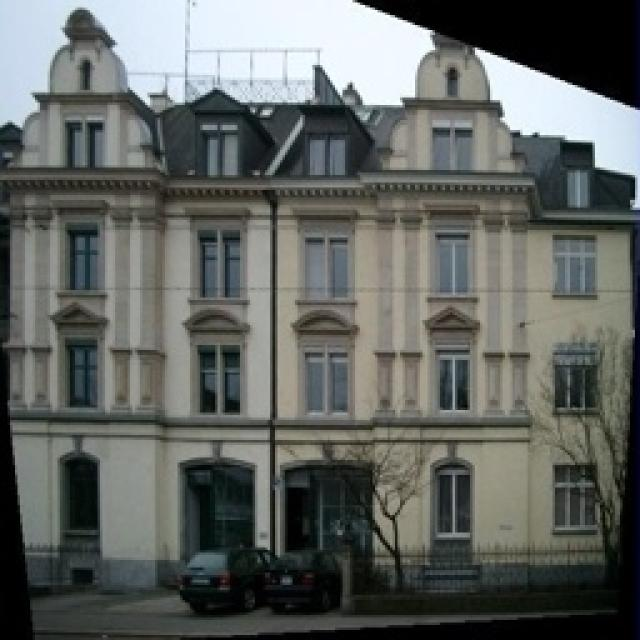building: (12, 5, 640, 640)
